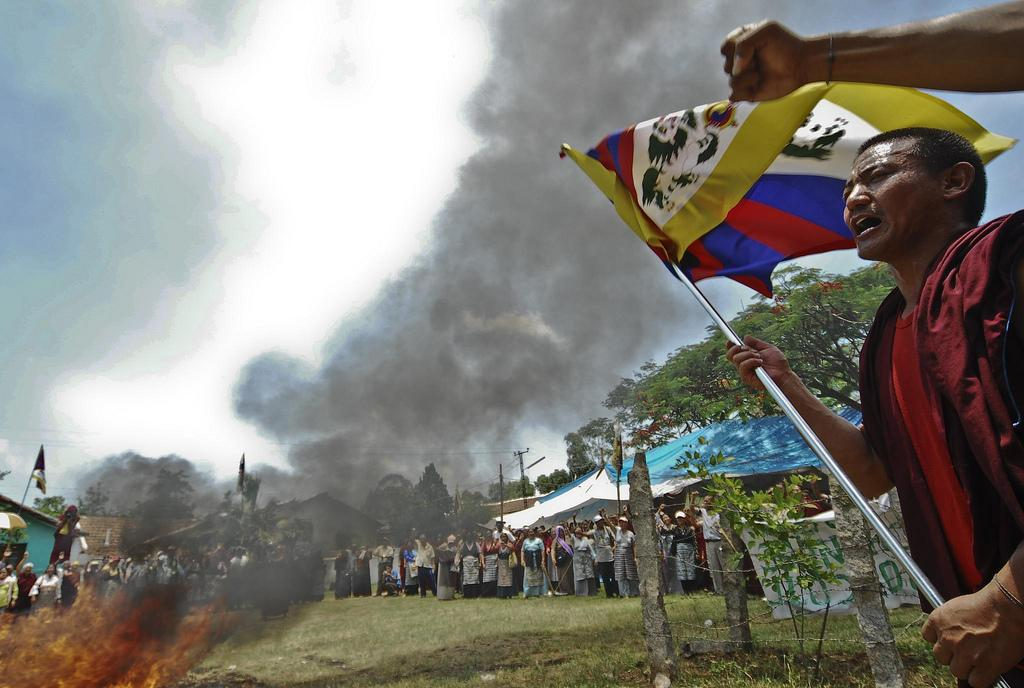fire: (13, 618, 142, 688)
smoke: (413, 212, 598, 417), (512, 5, 677, 142)
